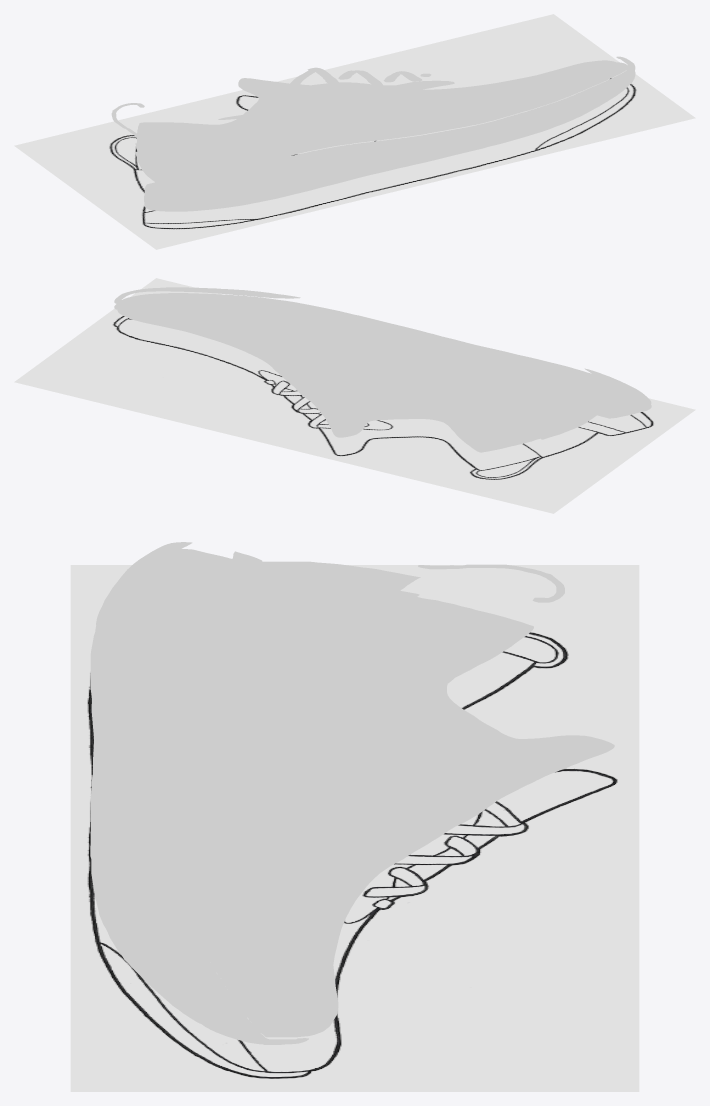
Rendered from Nike Epic React.FBX.
3 renders of one model, top to bottom at view 1: azimuth 30°, elevation 25°; view 2: azimuth 150°, elevation 25°; view 3: azimuth 270°, elevation 25°, orthographic. The views are drawn at different scales.
Visible parts, largest first — view 1: Plane001, Line007, Line001, Line005, Line008, Line016, Line002, Line015, Line004, Line003; view 2: Plane001, Line007, Line001, Line005, Line016, Line008, Line015, Line004, Line002, Line003; view 3: Plane001, Line007, Line001, Line005, Line008, Line016, Line002, Line015, Line004, Line003, Line006.
Boxes of the visible parts, left/top/right/bottom form: Plane001: left=14, top=14, right=695, bottom=249; Line007: left=135, top=60, right=626, bottom=182; Line001: left=144, top=62, right=635, bottom=211; Line005: left=135, top=140, right=289, bottom=176; Line008: left=270, top=80, right=454, bottom=103; Line016: left=218, top=85, right=376, bottom=119; Line002: left=144, top=151, right=291, bottom=191; Line015: left=287, top=67, right=431, bottom=90; Line004: left=536, top=56, right=635, bottom=127; Line003: left=144, top=199, right=254, bottom=207; Plane001: left=14, top=278, right=695, bottom=513; Line007: left=117, top=301, right=597, bottom=452; Line001: left=114, top=293, right=651, bottom=418; Line005: left=467, top=373, right=597, bottom=430; Line016: left=346, top=342, right=482, bottom=390; Line008: left=258, top=343, right=390, bottom=402; Line015: left=265, top=347, right=368, bottom=395; Line004: left=114, top=287, right=300, bottom=303; Line002: left=485, top=376, right=624, bottom=414; Line003: left=584, top=368, right=651, bottom=406; Plane001: left=70, top=565, right=639, bottom=1091; Line007: left=190, top=591, right=614, bottom=1037; Line001: left=90, top=549, right=308, bottom=1044; Line005: left=251, top=561, right=420, bottom=687; Line008: left=342, top=716, right=484, bottom=869; Line016: left=285, top=617, right=390, bottom=757; Line002: left=223, top=551, right=262, bottom=698; Line015: left=364, top=725, right=526, bottom=844; Line004: left=98, top=898, right=308, bottom=1033; Line003: left=96, top=542, right=192, bottom=626; Line006: left=418, top=564, right=564, bottom=602.
Size of the model in its own units: 252 by 18.4 by 115.
